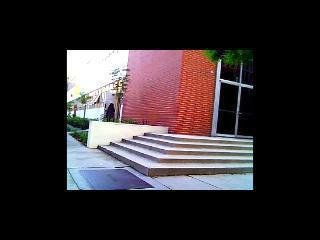Escaleras: (98, 131, 252, 176)
